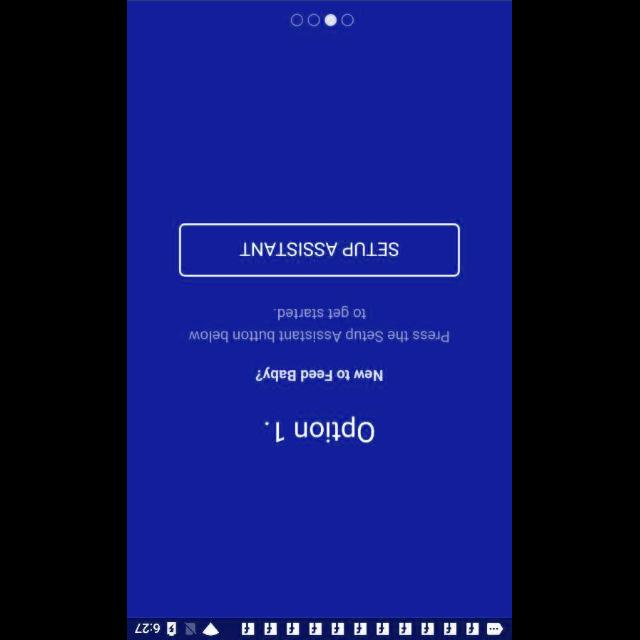pageindicator: (290, 12, 356, 28)
text: (190, 305, 450, 343), (265, 416, 375, 442), (256, 366, 384, 382)
textbutton: (180, 223, 460, 277)
uppertaskbar: (128, 617, 512, 639)
